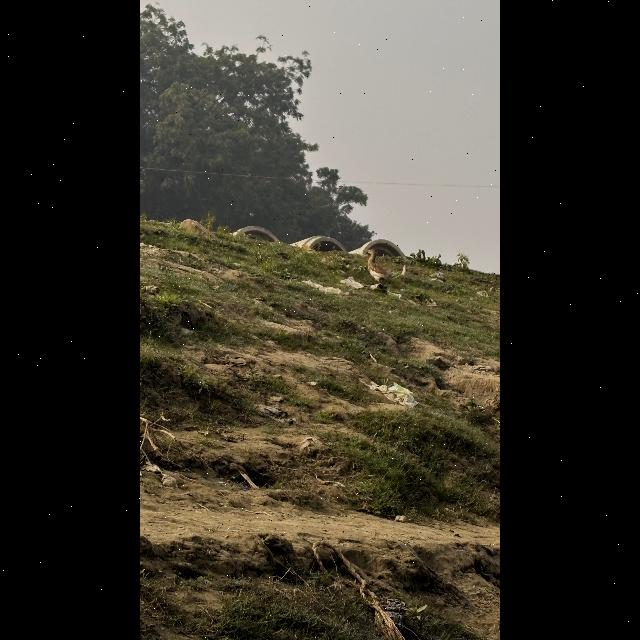heron: (356, 242, 400, 294)
